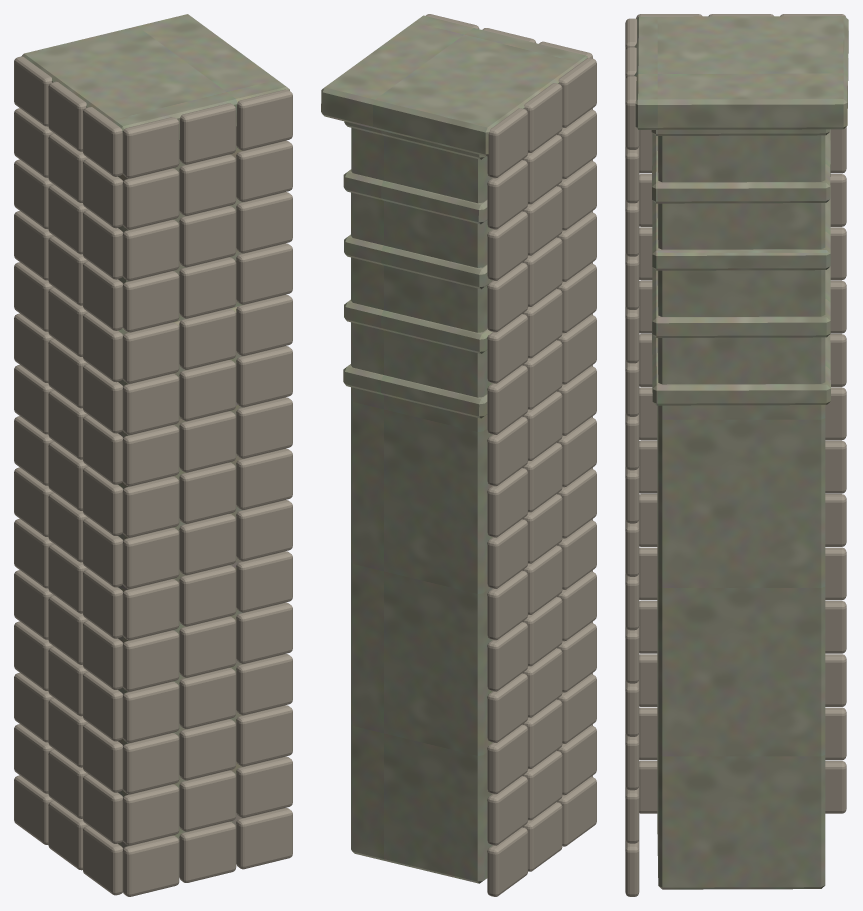
File: SM_HH_Q3_Chimney.fbx
3 renders of one model, left to right at view 1: azimuth 30°, elevation 25°; view 2: azimuth 150°, elevation 25°; view 3: azimuth 270°, elevation 25°, orthographic. The views are drawn at different scales.
Visible parts, largest first — view 1: HH_Q3_Chimney; view 2: HH_Q3_Chimney; view 3: HH_Q3_Chimney.
Part boxes in pixels (x1,y1,x2,y2): HH_Q3_Chimney: (14, 14, 292, 896); HH_Q3_Chimney: (321, 14, 596, 896); HH_Q3_Chimney: (625, 14, 848, 896).
Size of the model in its own units: 1.2 by 1.15 by 4.75.
